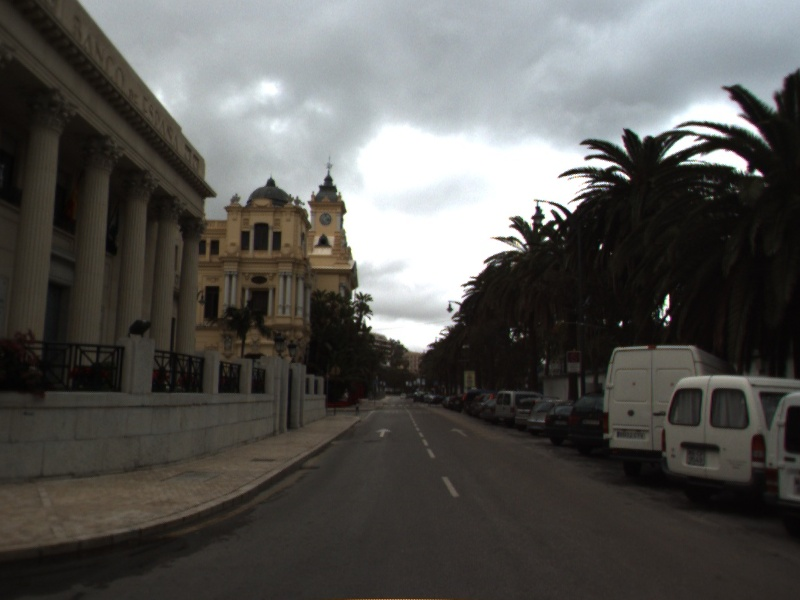STRAIGHT: (448, 426, 470, 438), (374, 426, 393, 439)
